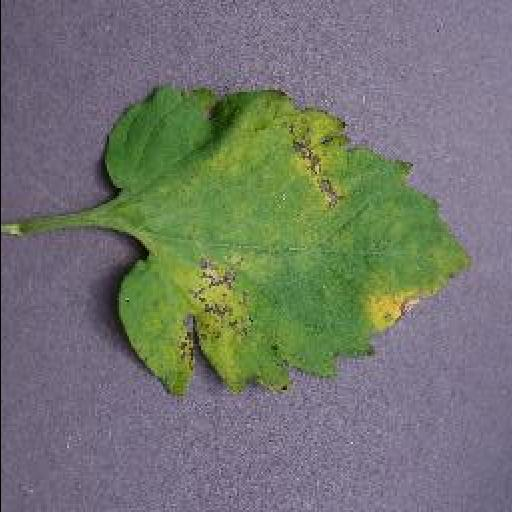disease_tomato: (94, 76, 474, 400)
